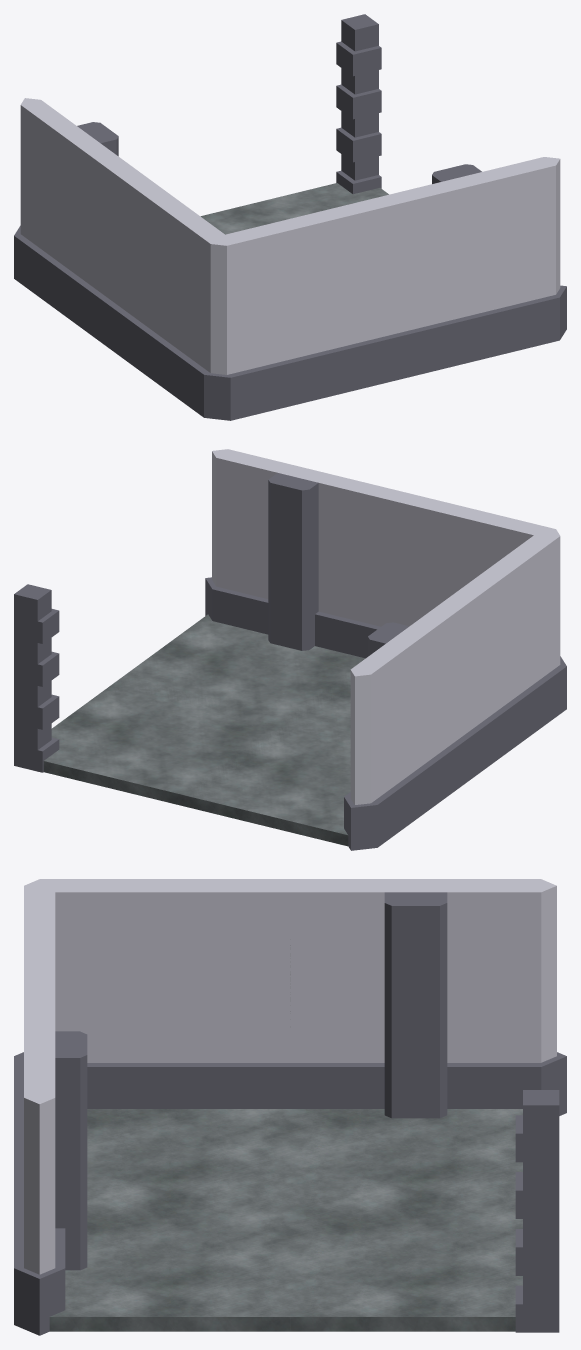
File: corner_02.fbx
3 views of the same model, one above another, from view 1: azimuth 30°, elevation 25°; view 2: azimuth 150°, elevation 25°; view 3: azimuth 270°, elevation 25° (orthographic). The views are drawn at different scales.
Visible parts, largest first — view 1: corner_01_0, wall_02_2, wall_02_3, wall_borderBricks_5, floor_01_1; view 2: floor_01_1, corner_01_0, wall_02_2, wall_02_3, wall_borderBricks_5; view 3: floor_01_1, wall_02_3, corner_01_0, wall_02_2, wall_borderBricks_5.
Part boxes in pixels (left/top/right/bottom): corner_01_0: left=109, top=168, right=397, bottom=420; wall_02_2: left=376, top=157, right=566, bottom=380; wall_02_3: left=14, top=98, right=135, bottom=347; wall_borderBricks_5: left=336, top=14, right=381, bottom=194; floor_01_1: left=200, top=183, right=388, bottom=234; floor_01_1: left=43, top=614, right=365, bottom=846; corner_01_0: left=376, top=489, right=566, bottom=778; wall_02_2: left=205, top=449, right=395, bottom=658; wall_02_3: left=344, top=598, right=472, bottom=850; wall_borderBricks_5: left=14, top=584, right=59, bottom=772; floor_01_1: left=49, top=1109, right=522, bottom=1331; wall_02_3: left=275, top=879, right=566, bottom=1118; corner_01_0: left=14, top=879, right=305, bottom=1166; wall_02_2: left=14, top=991, right=87, bottom=1335; wall_borderBricks_5: left=515, top=1090, right=559, bottom=1332.
Bounding box in the file's own units: 22.05 × 10 × 22.05.
